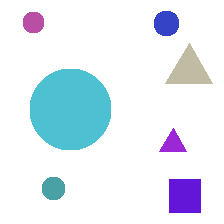circle: (30, 69, 110, 149), (154, 11, 178, 35), (42, 177, 64, 199), (23, 12, 43, 32)
rectangle: (169, 179, 200, 212)
triangle: (165, 43, 212, 83), (159, 128, 186, 151)
